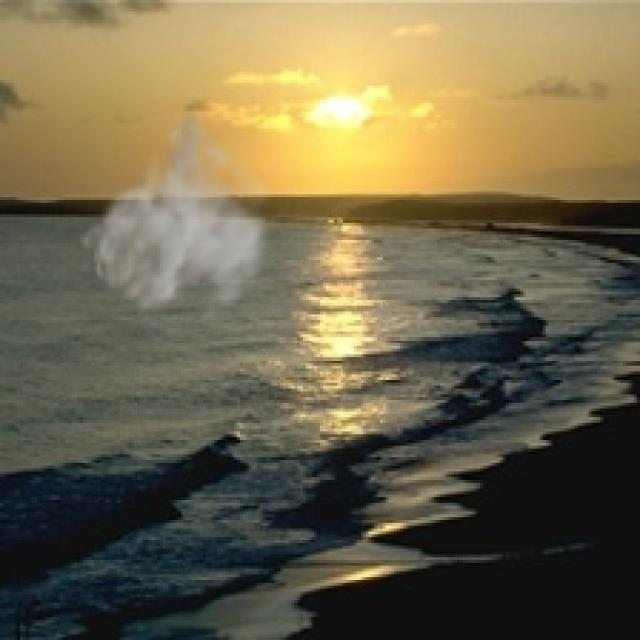Smoke: (77, 103, 277, 334)
